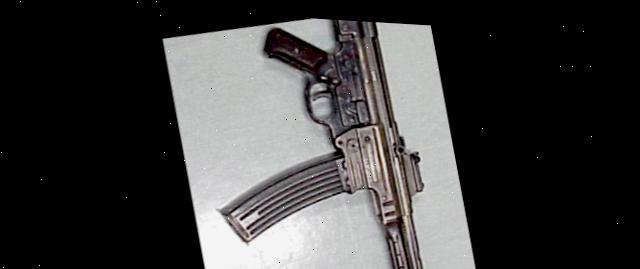rifle: (174, 8, 473, 269)
